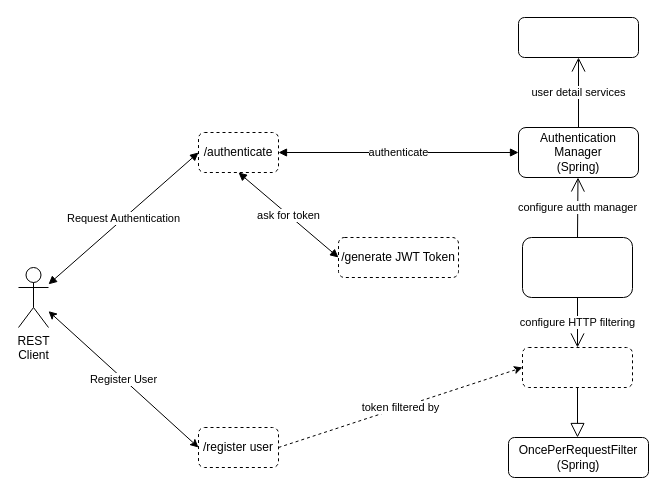
This 666x495 diagram has some shape labels left out. Each missing label, with the centre of its shape:
"/validate token" goes at pixel 577 367.
"Custom User Details Service" goes at pixel 578 37.
"Security Configuration (Spring)" goes at pixel 577 267.
